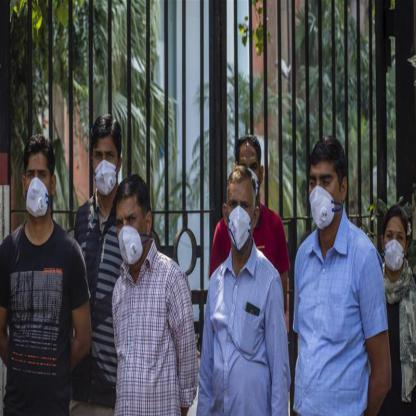Wearing_Mask: (113, 202, 148, 270), (88, 130, 119, 204), (308, 157, 338, 233), (24, 154, 53, 221), (227, 186, 252, 250), (380, 218, 409, 272)
